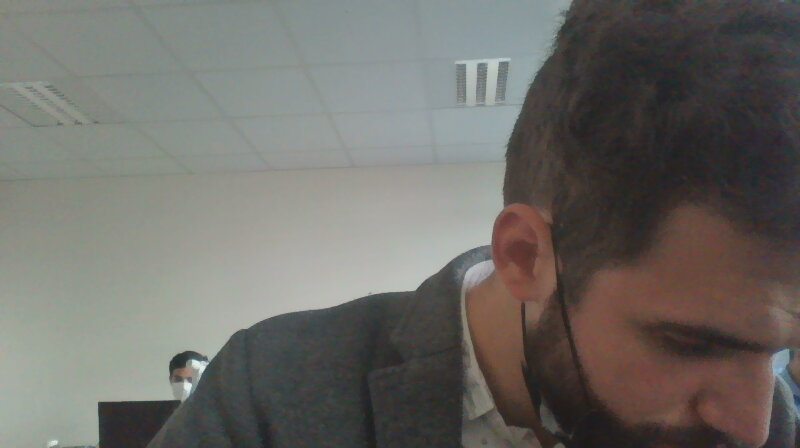with_incorrect_mask: (542, 196, 796, 448)
